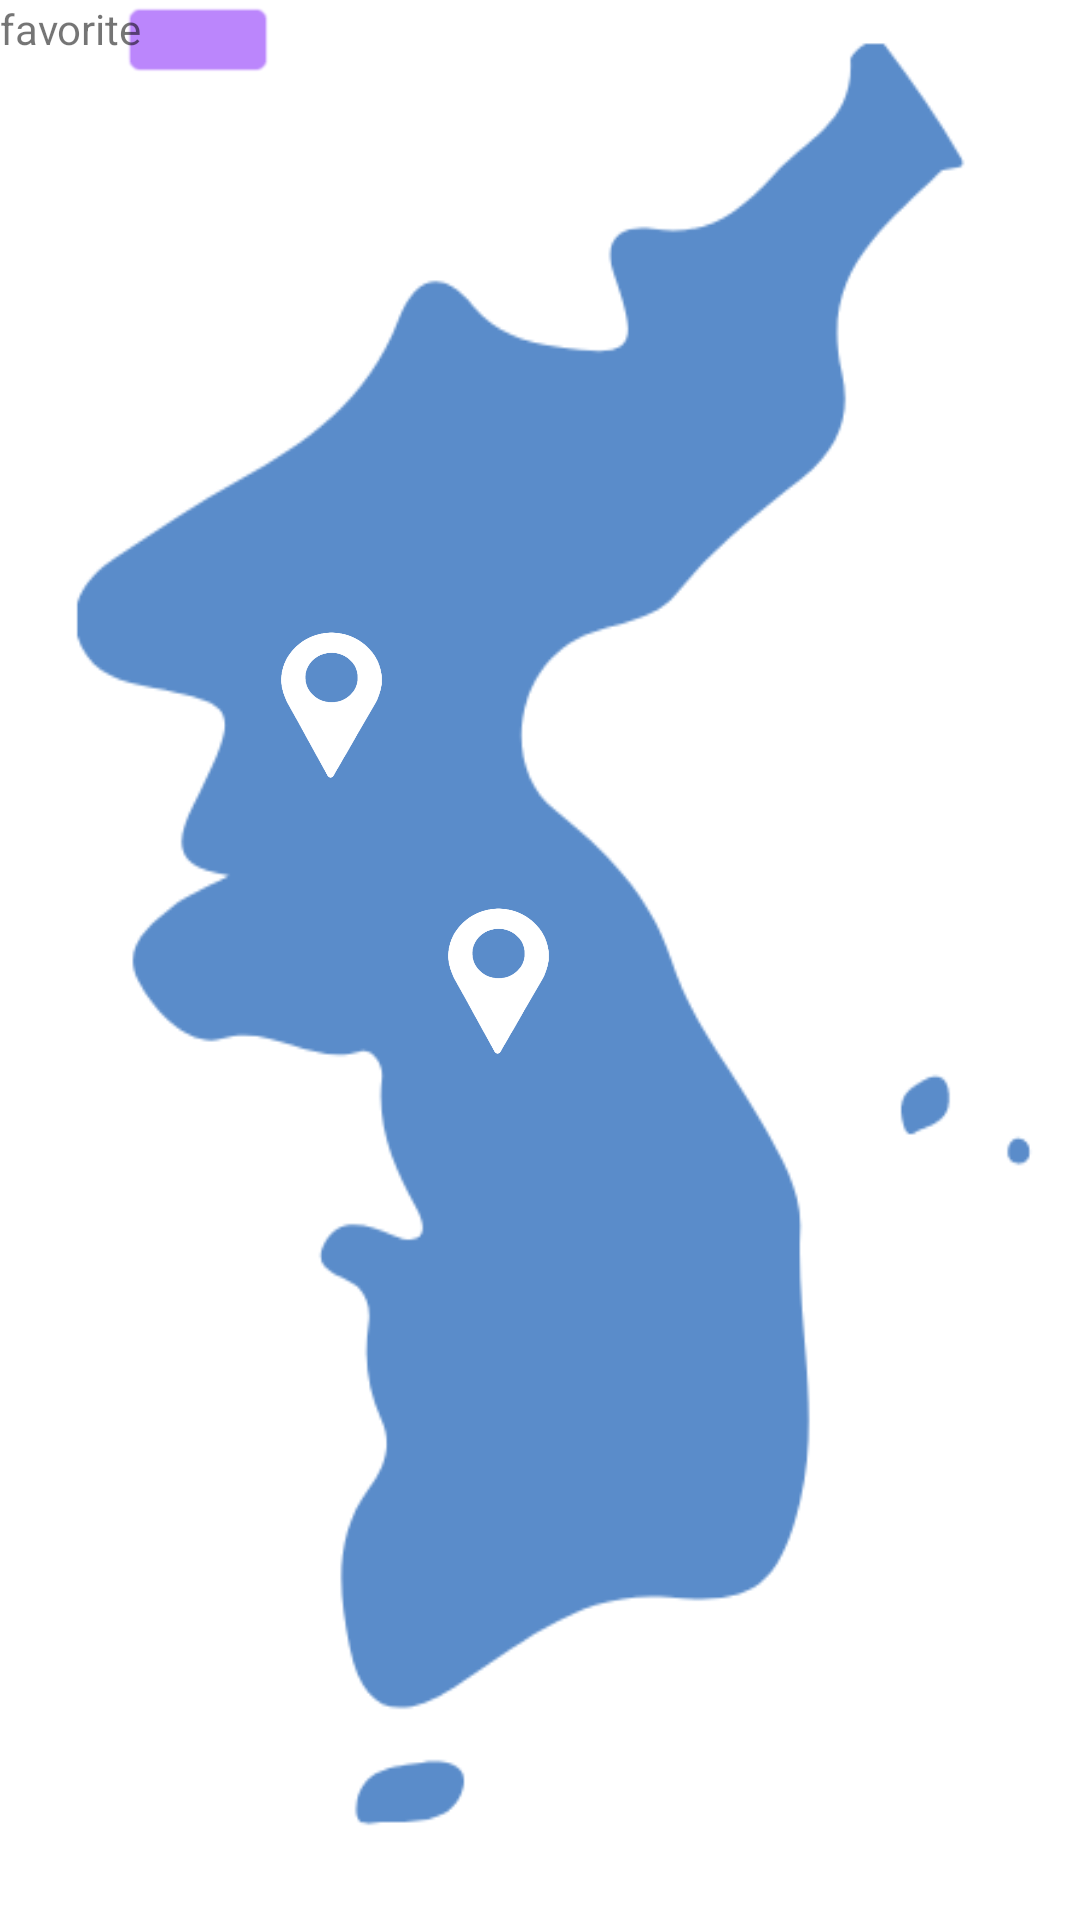

Point at icon controls on the screen. Image size 1080 × 1920, points as (x=x, y=y).
location marker: (x=331, y=705), (x=498, y=981)
